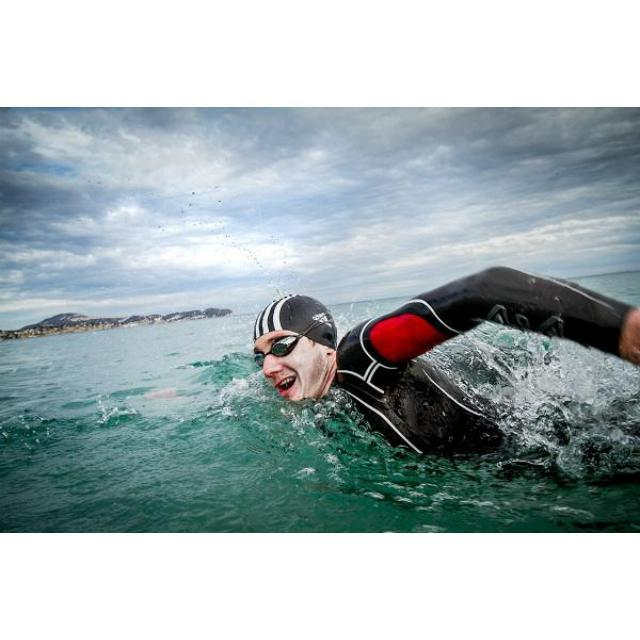human: (249, 260, 639, 497)
